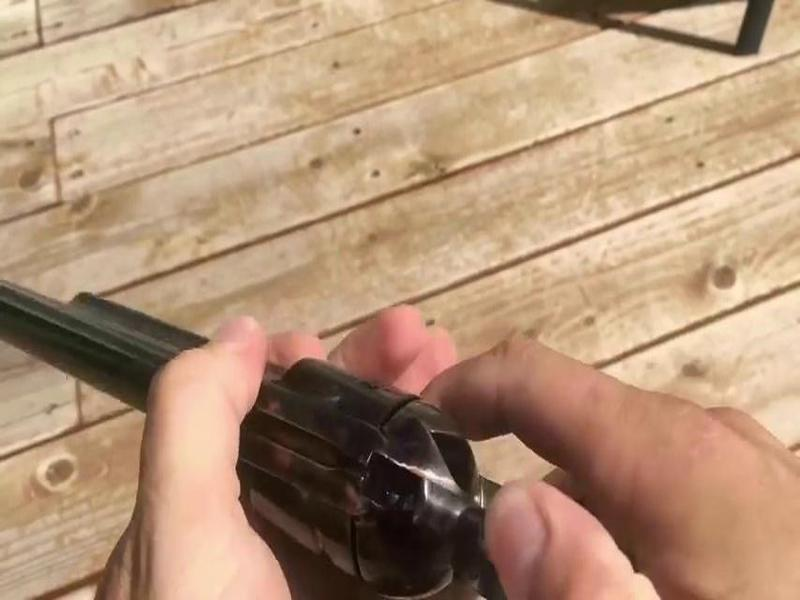Revolver: (21, 247, 592, 586)
